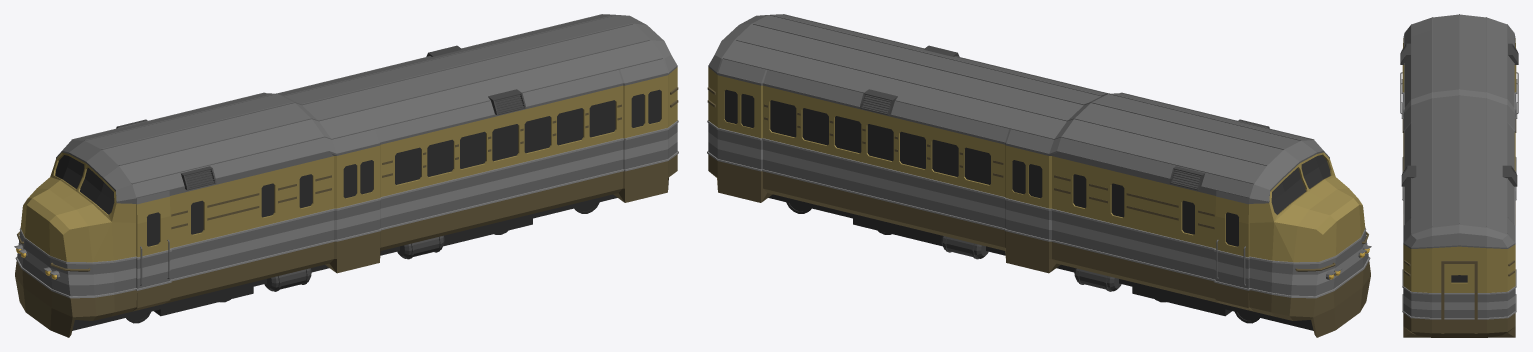
The model's file is nordhafen-train-cargotrain-front.glb.
3 renders of one model, left to right at view 1: azimuth 30°, elevation 25°; view 2: azimuth 150°, elevation 25°; view 3: azimuth 270°, elevation 25°, orthographic. The views are drawn at different scales.
Parts seen in each view (by area): view 1: Train_Cylinder.002; view 2: Train_Cylinder.002; view 3: Train_Cylinder.002.
Boxes of the visible parts, x1=… form: Train_Cylinder.002: x1=14, y1=14, x2=678, y2=337; Train_Cylinder.002: x1=707, y1=14, x2=1371, y2=337; Train_Cylinder.002: x1=1400, y1=14, x2=1518, y2=337.
Bounding box in the file's own units: 10.35 × 2.68 × 2.15.
